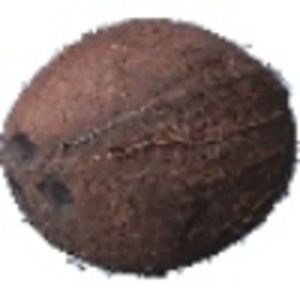coco: (1, 18, 300, 278)
